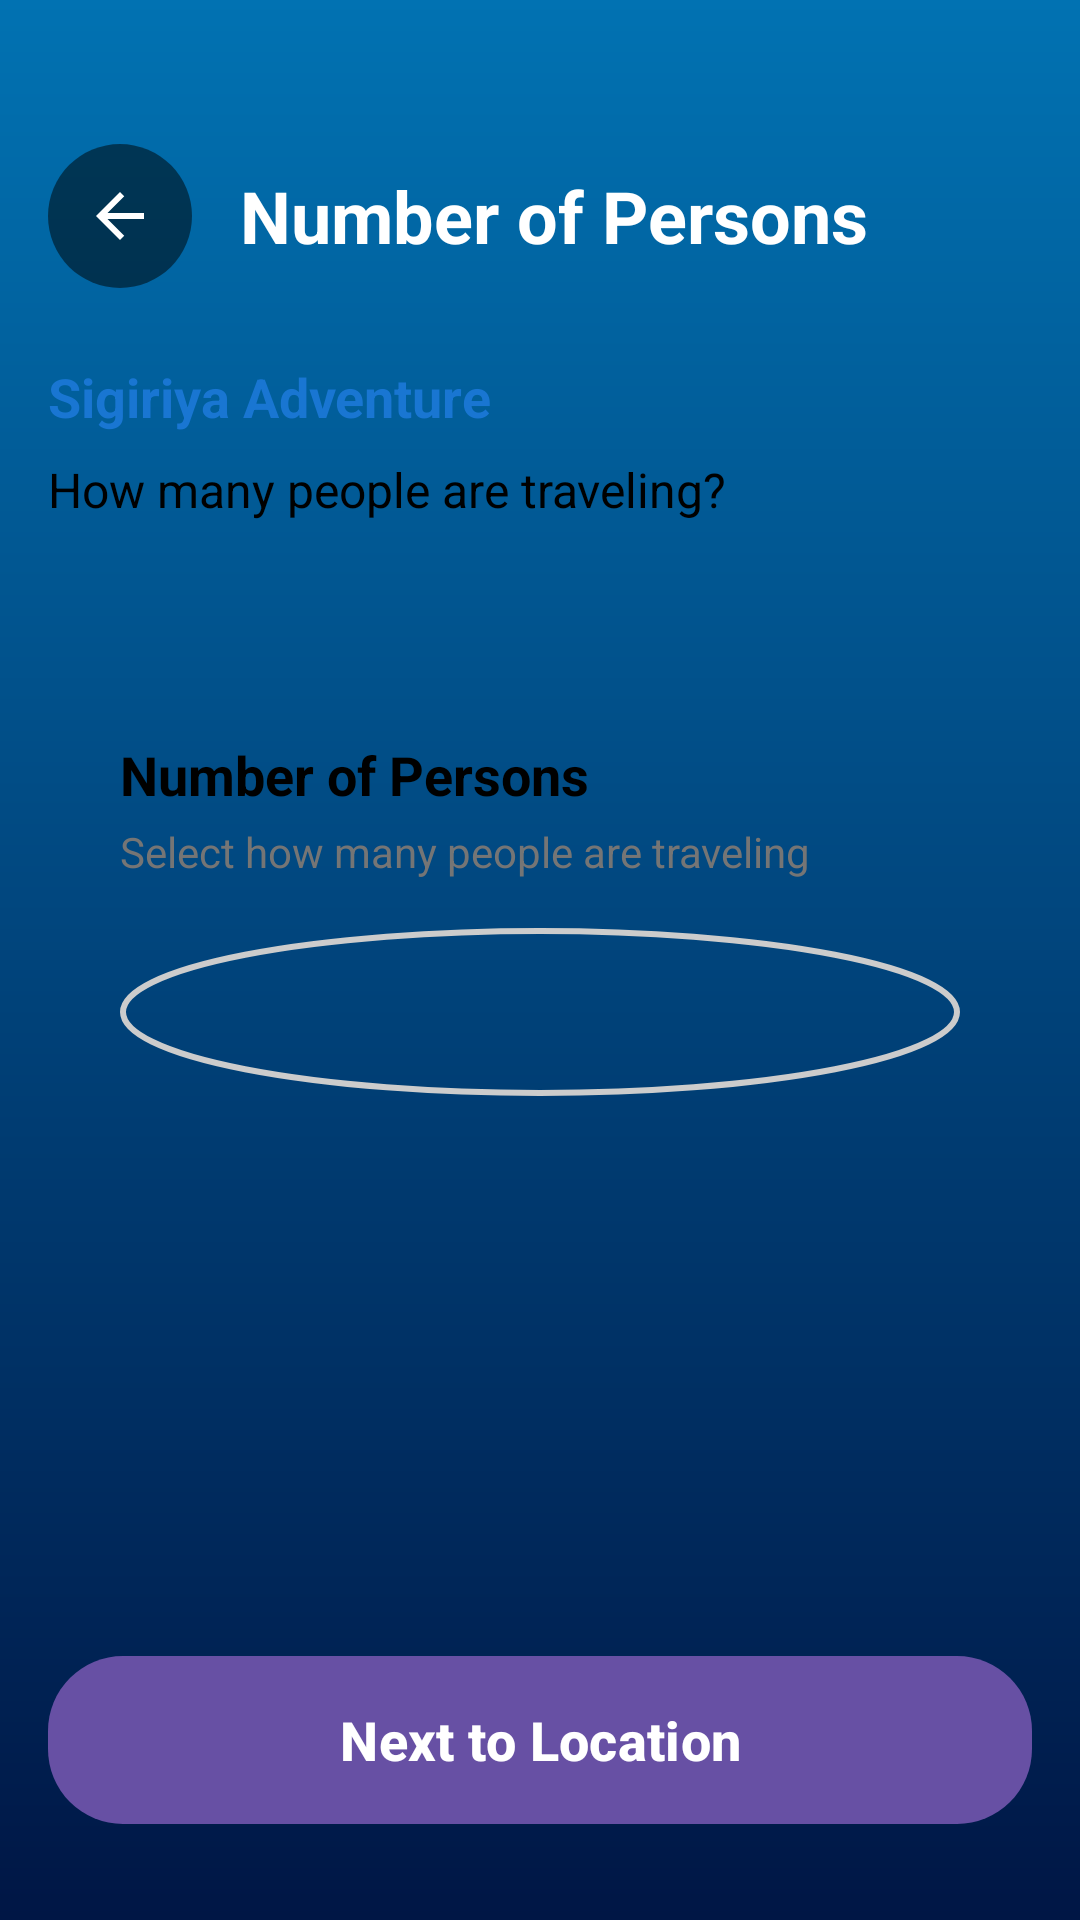

Locate icon controls on the screen. Image size 1080px×1920px, boxes as (x1, y1, x2, y2).
back: (48, 144, 192, 288)
